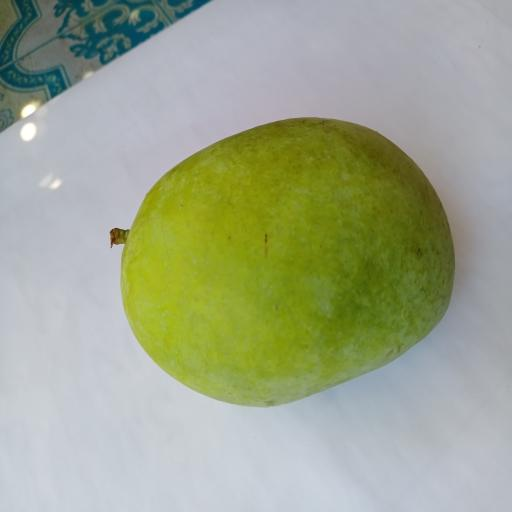mango-unripe: (94, 113, 466, 424)
